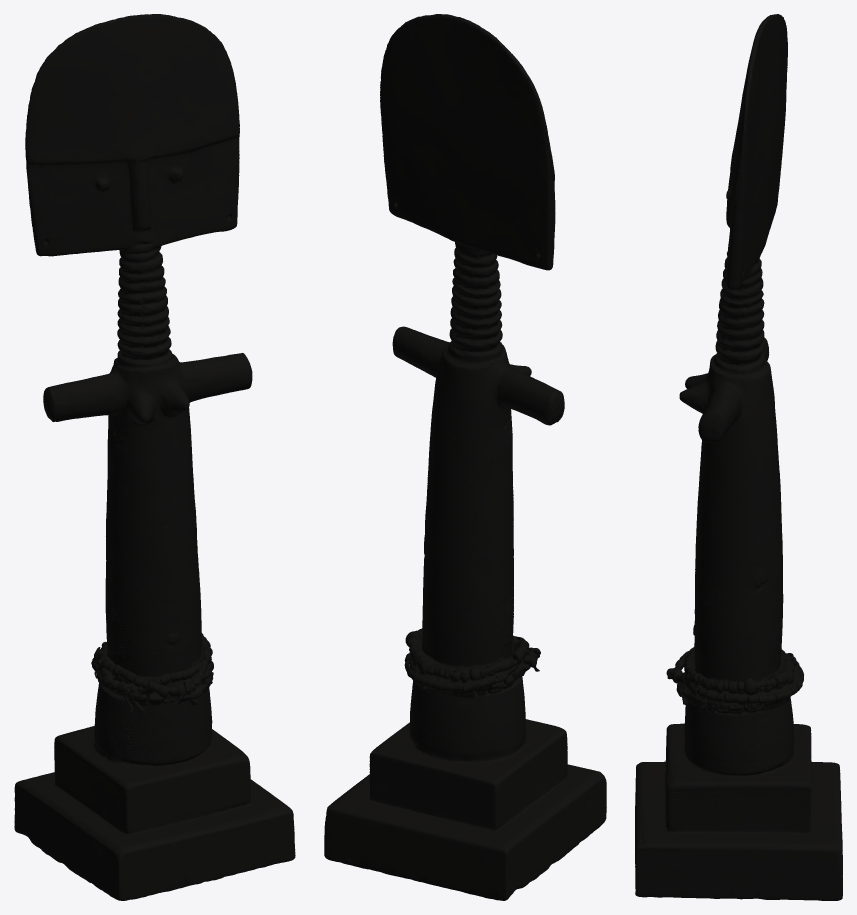
Rendered from preview.glb.
3 renders of one model, left to right at view 1: azimuth 30°, elevation 25°; view 2: azimuth 150°, elevation 25°; view 3: azimuth 270°, elevation 25°, orthographic.
Parts seen in each view (by area): view 1: Object_2; view 2: Object_2; view 3: Object_2.
Part boxes in pixels (x1,y1,x2,y2): Object_2: (14, 14, 295, 900); Object_2: (324, 14, 606, 900); Object_2: (635, 14, 842, 900).
Size of the model in its own units: 78.98 by 315 by 71.67.
Materials: 1 (1 with a texture image).
